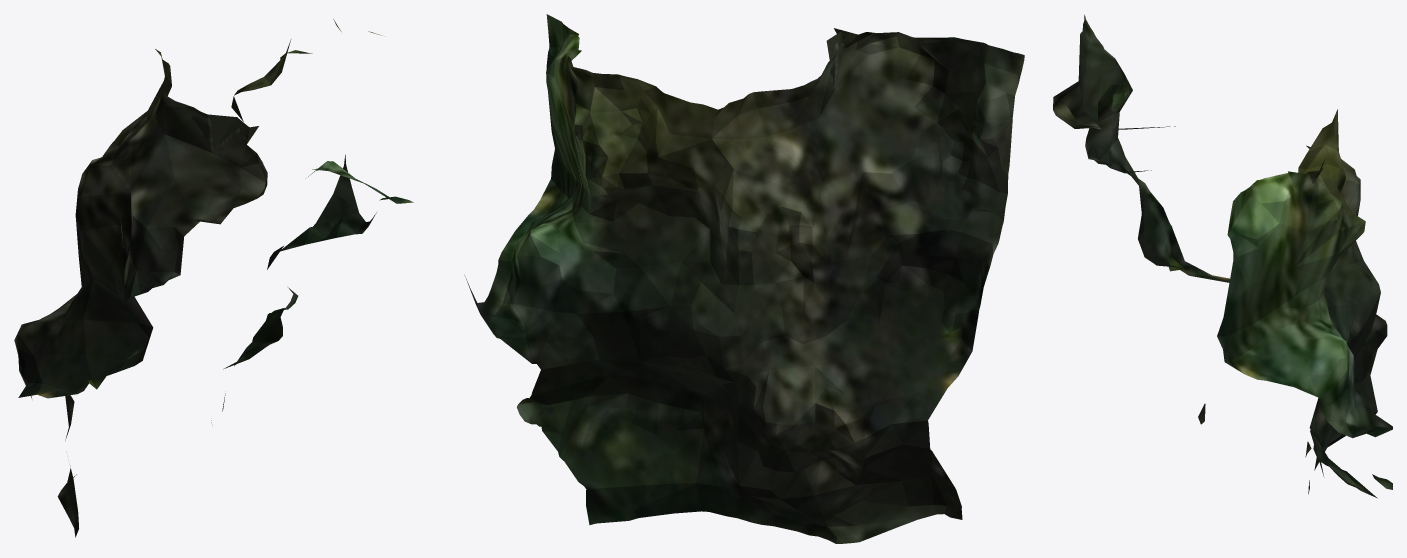
3 renders of one model, left to right at view 1: azimuth 30°, elevation 25°; view 2: azimuth 150°, elevation 25°; view 3: azimuth 270°, elevation 25°, orthographic. The views are drawn at different scales.
Size of the model in its own units: 0.8374 by 0.8374 by 0.6419.
4 materials, 4 textured.
